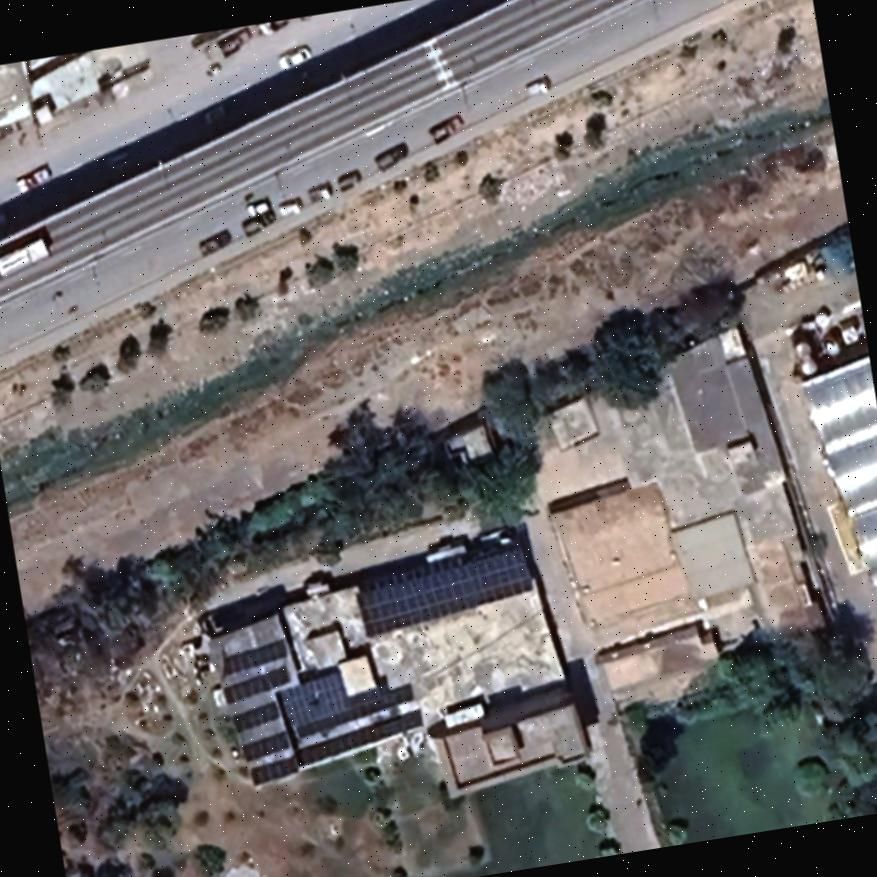Solarpanel: (218, 646, 433, 790), (351, 539, 539, 642), (213, 635, 298, 681), (214, 659, 293, 706)
